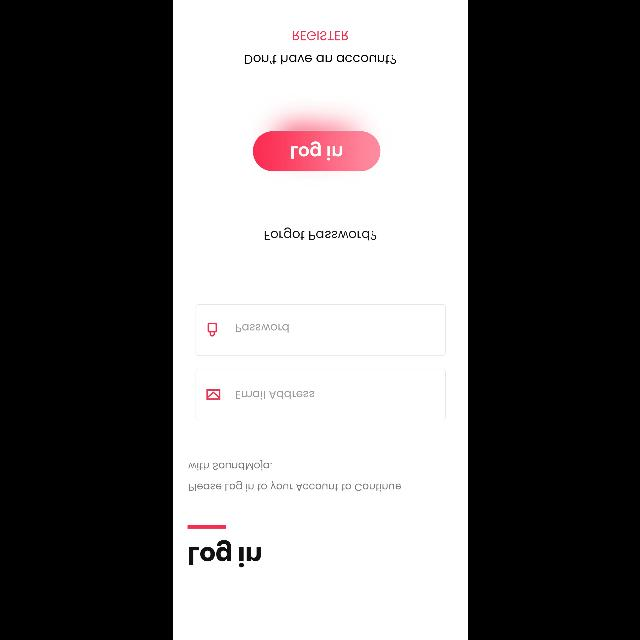icon: (206, 388, 220, 399), (208, 322, 216, 336)
input: (195, 368, 445, 420), (195, 304, 445, 356)
text: (188, 460, 400, 492), (188, 540, 260, 568), (244, 55, 396, 65), (264, 228, 376, 240), (235, 391, 313, 399), (236, 323, 288, 332), (292, 32, 348, 40)
textbutton: (252, 131, 380, 171)
